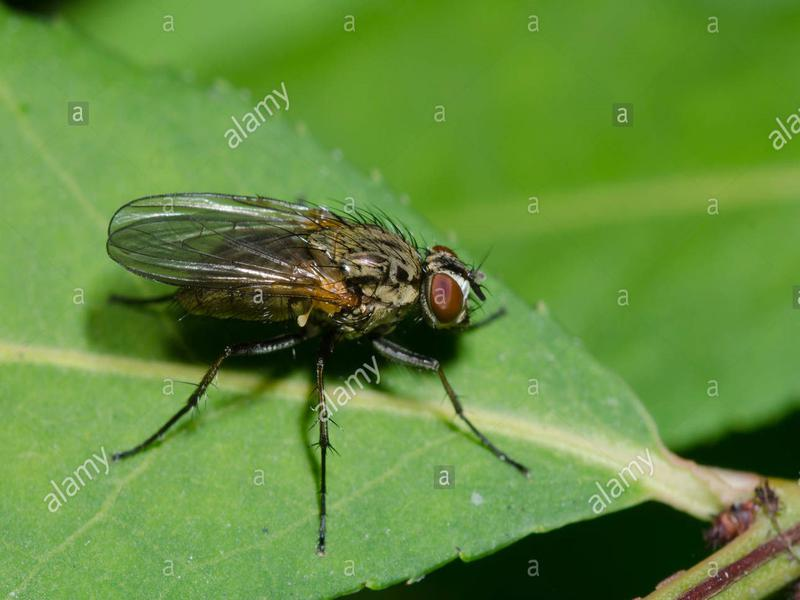Whorl_maggot: (97, 174, 533, 394)
